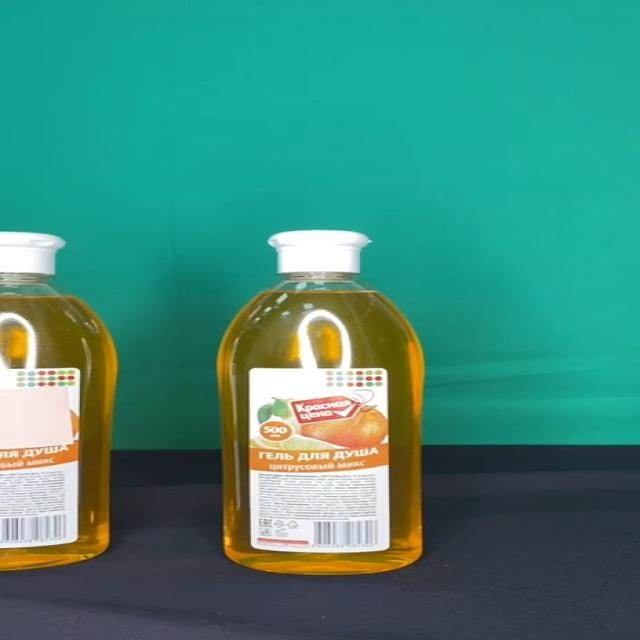Bottle: (218, 229, 427, 575)
Cap: (266, 230, 368, 274)
